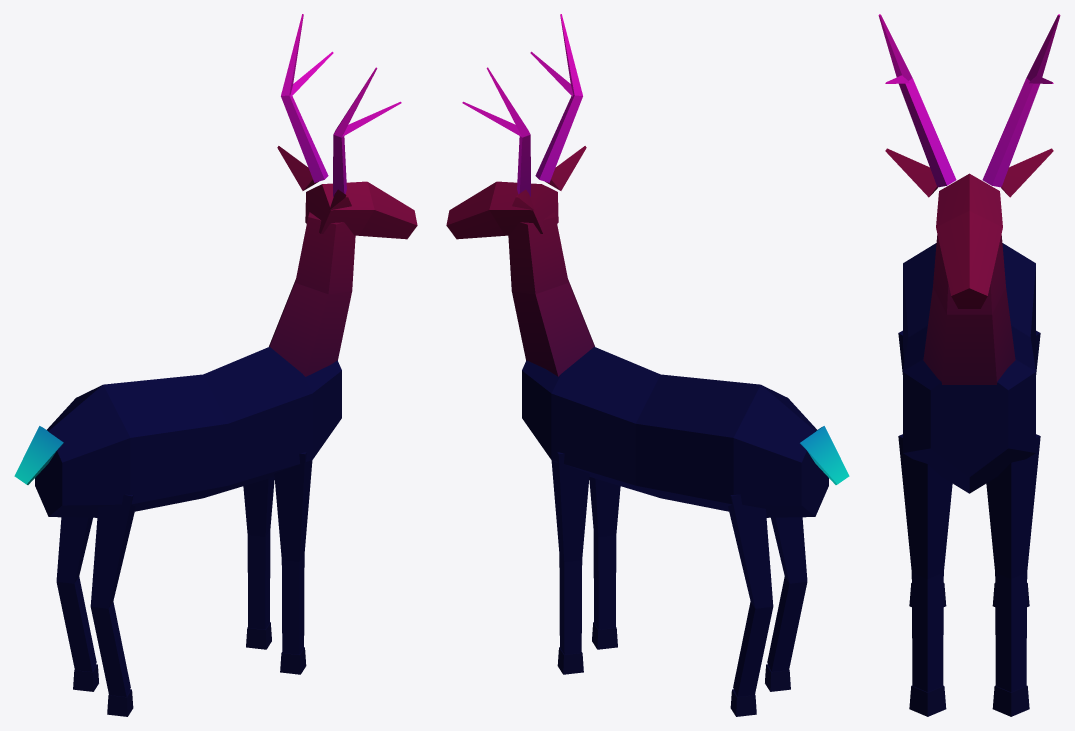
Rendered from ns-deer-a.glb.
The picture shows the model from 3 angles, left to right: view 1: azimuth 30°, elevation 25°; view 2: azimuth 150°, elevation 25°; view 3: azimuth 270°, elevation 25°; orthographic projection. The views are drawn at different scales.
Visible parts, largest first — view 1: Sculpted silhouette, Tapered form.008, Tapered form.006, Tapered form.002, Tapered form.009, Tapered form.004, Tapered form, Tapered form.014, Tapered form.016, Tapered form.011, Tapered form.013; view 2: Sculpted silhouette, Tapered form.008, Tapered form.004, Tapered form, Tapered form.009, Tapered form.006, Tapered form.002, Tapered form.011, Tapered form.016, Tapered form.014, Tapered form.010; view 3: Sculpted silhouette, Tapered form, Tapered form.002, Tapered form.008, Tapered form.009, Tapered form.011, Tapered form.014, Tapered form.010, Tapered form.013, Tapered form.001, Tapered form.003.
Part boxes in pixels (left/top/right/bottom): Sculpted silhouette: left=35, top=346, right=341, bottom=517; Tapered form.008: left=269, top=212, right=355, bottom=376; Tapered form.006: left=90, top=494, right=135, bottom=696; Tapered form.002: left=274, top=452, right=312, bottom=654; Tapered form.009: left=305, top=181, right=417, bottom=239; Tapered form.004: left=56, top=517, right=96, bottom=671; Tapered form: left=243, top=477, right=274, bottom=629; Tapered form.014: left=281, top=14, right=328, bottom=182; Tapered form.016: left=14, top=426, right=63, bottom=484; Tapered form.011: left=333, top=67, right=377, bottom=196; Tapered form.013: left=277, top=146, right=318, bottom=190; Sculpted silhouette: left=522, top=346, right=828, bottom=517; Tapered form.008: left=508, top=212, right=594, bottom=376; Tapered form.004: left=728, top=494, right=773, bottom=696; Tapered form: left=551, top=452, right=589, bottom=654; Tapered form.009: left=446, top=181, right=558, bottom=239; Tapered form.006: left=767, top=517, right=807, bottom=671; Tapered form.002: left=589, top=477, right=620, bottom=629; Tapered form.011: left=535, top=14, right=582, bottom=182; Tapered form.016: left=800, top=426, right=849, bottom=484; Tapered form.014: left=486, top=67, right=530, bottom=196; Tapered form.010: left=545, top=146, right=586, bottom=190; Sculpted silhouette: left=903, top=243, right=1035, bottom=493; Tapered form: left=986, top=434, right=1040, bottom=692; Tapered form.002: left=898, top=434, right=952, bottom=692; Tapered form.008: left=923, top=234, right=1015, bottom=384; Tapered form.009: left=936, top=173, right=1002, bottom=308; Tapered form.011: left=878, top=14, right=956, bottom=187; Tapered form.014: left=982, top=14, right=1060, bottom=187; Tapered form.010: left=885, top=148, right=937, bottom=197; Tapered form.013: left=1001, top=148, right=1053, bottom=197; Tapered form.001: left=992, top=685, right=1029, bottom=716; Tapered form.003: left=909, top=685, right=946, bottom=716.
Size of the model in its own units: 0.8794 by 1.26 by 0.2839.
